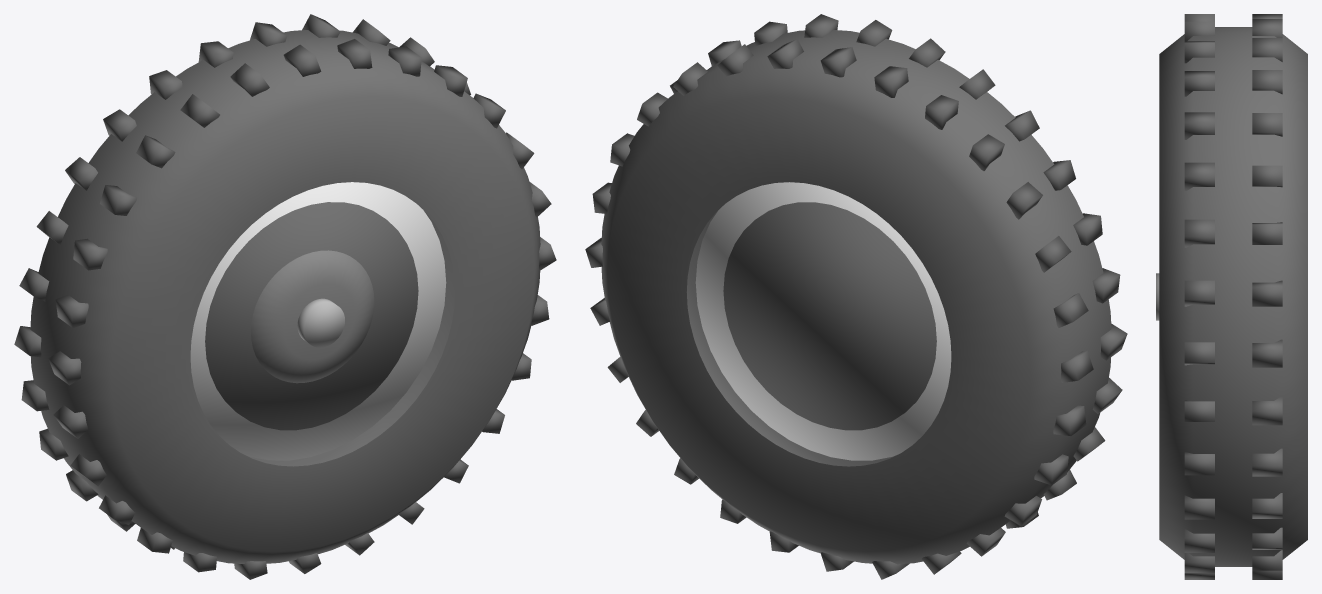
File: car-tire.glb
The picture shows the model from 3 angles, left to right: view 1: azimuth 30°, elevation 25°; view 2: azimuth 150°, elevation 25°; view 3: azimuth 270°, elevation 25°; orthographic projection.
Visible parts, largest first — view 1: part0, part1, part57, part60; view 2: part0, part1, part57; view 3: part0, part1.
Boxes of the visible parts, left/top/right/bottom form: part0: left=30, top=30, right=540, bottom=563; part1: left=14, top=14, right=556, bottom=579; part57: left=190, top=182, right=446, bottom=460; part60: left=297, top=298, right=344, bottom=347; part0: left=601, top=30, right=1111, bottom=564; part1: left=585, top=14, right=1127, bottom=579; part57: left=695, top=182, right=951, bottom=460; part0: left=1159, top=27, right=1307, bottom=566; part1: left=1184, top=14, right=1282, bottom=579.
Bounding box in the file's own units: 1 × 1 × 0.2684.
4 materials, 4 textured.
